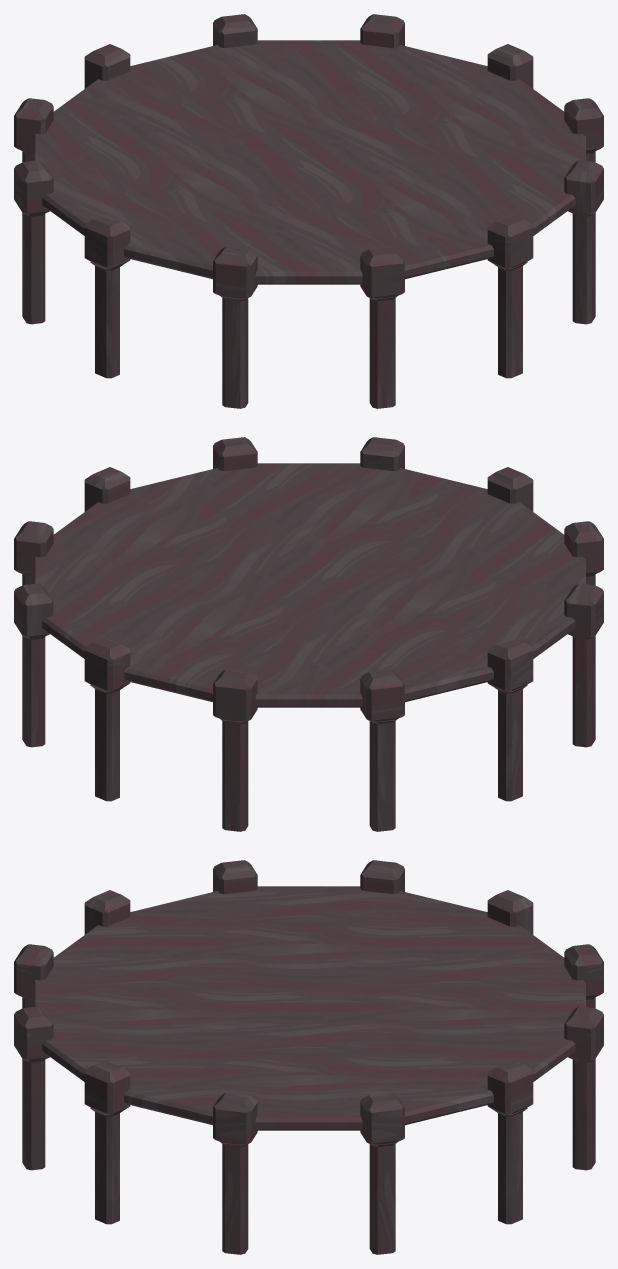
File: Platform_House.fbx
3 views of the same model, one above another, from view 1: azimuth 30°, elevation 25°; view 2: azimuth 150°, elevation 25°; view 3: azimuth 270°, elevation 25° (orthographic).
Parts seen in each view (by area): view 1: platform_house; view 2: platform_house; view 3: platform_house.
Part boxes in pixels (left/top/right/bottom): platform_house: left=14, top=14, right=603, bottom=408; platform_house: left=14, top=437, right=603, bottom=831; platform_house: left=14, top=860, right=603, bottom=1254.
Size of the model in its own units: 2006 by 573 by 2006.
